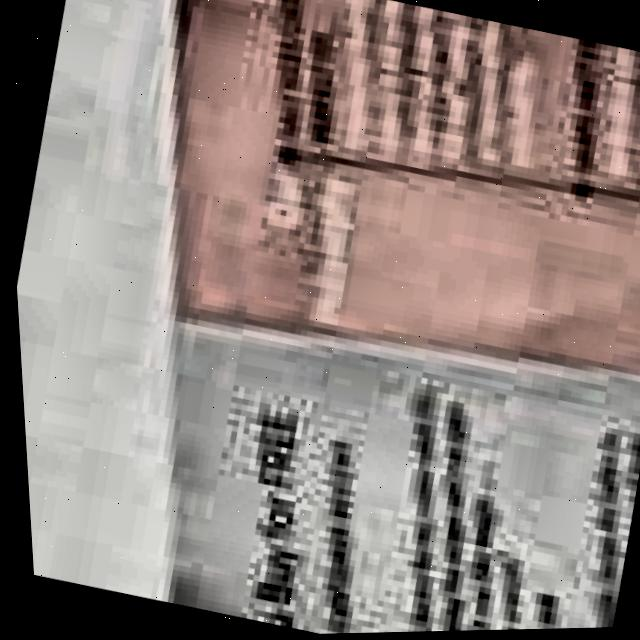paper: (141, 0, 640, 635)
